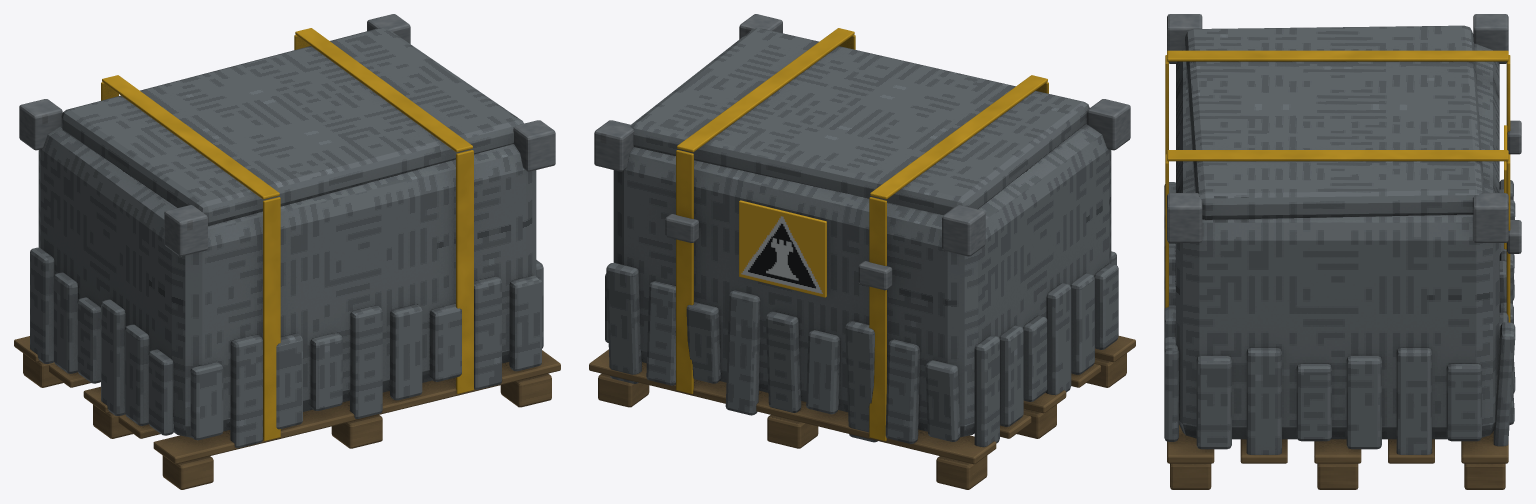
File: base_build_crate_tarp.glb
3 renders of one model, left to right at view 1: azimuth 30°, elevation 25°; view 2: azimuth 150°, elevation 25°; view 3: azimuth 270°, elevation 25°, orthographic. The views are drawn at different scales.
Parts seen in each view (by area): view 1: base_build_crate_tarp; view 2: base_build_crate_tarp; view 3: base_build_crate_tarp.
Boxes of the visible parts, bbox=[...] form: base_build_crate_tarp: bbox=[14, 14, 560, 489]; base_build_crate_tarp: bbox=[589, 14, 1135, 489]; base_build_crate_tarp: bbox=[1164, 14, 1521, 489].
Bounding box in the file's own units: 1.6 × 1.09 × 1.21.
5 materials, 5 textured.
